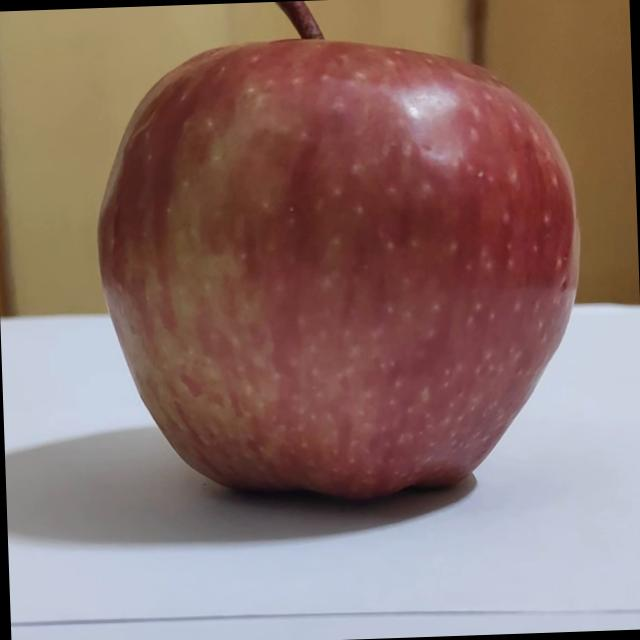apple: (88, 0, 596, 519)
